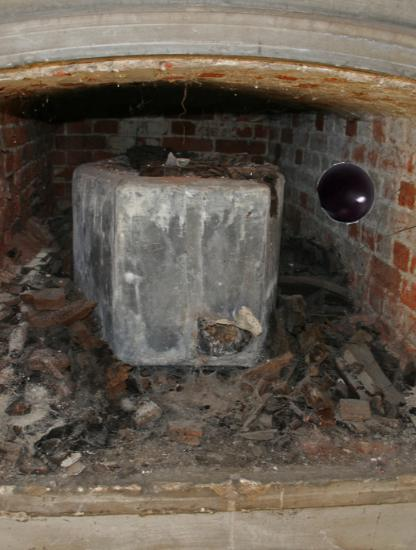Cherry: (316, 162, 378, 224)
